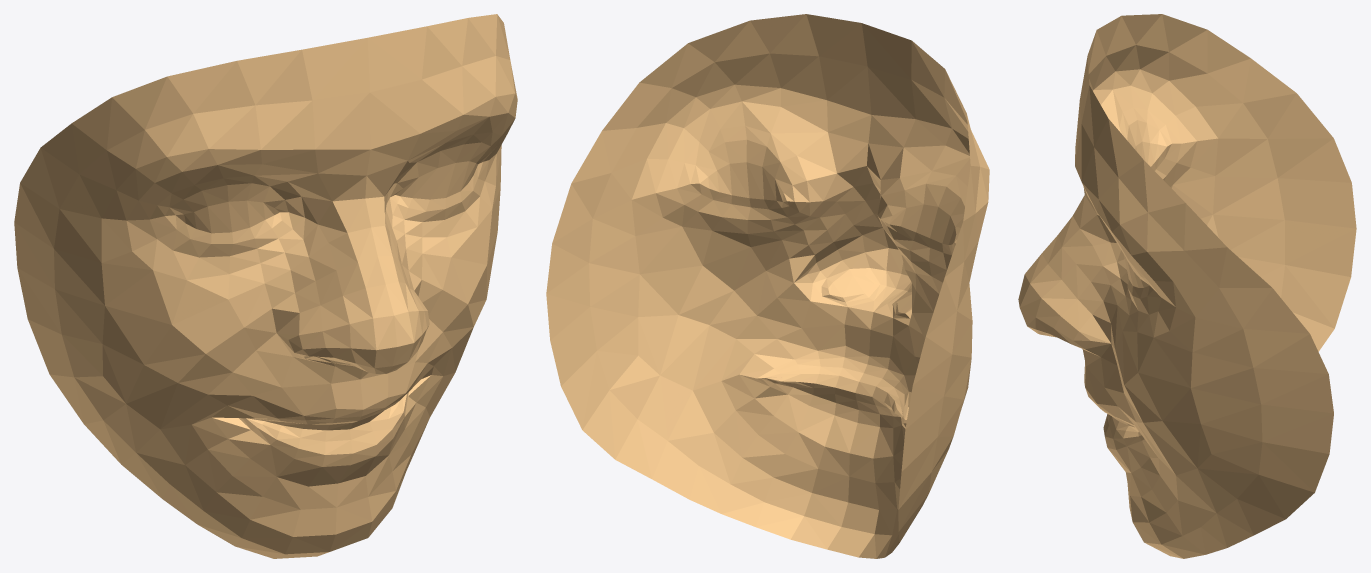
The model's file is jp_mesh_colored.glb.
3 views of the same model, side by side, from view 1: azimuth 30°, elevation 25°; view 2: azimuth 150°, elevation 25°; view 3: azimuth 270°, elevation 25° (orthographic). The views are drawn at different scales.
Visible parts, largest first — view 1: node_id3; view 2: node_id3; view 3: node_id3.
Part boxes in pixels (x1,y1,x2,y2): node_id3: (14, 14, 517, 558); node_id3: (546, 14, 989, 558); node_id3: (1018, 14, 1356, 558).
Size of the model in its own units: 0.4173 by 0.5125 by 0.3209.
Materials: 1 (1 with a texture image).
